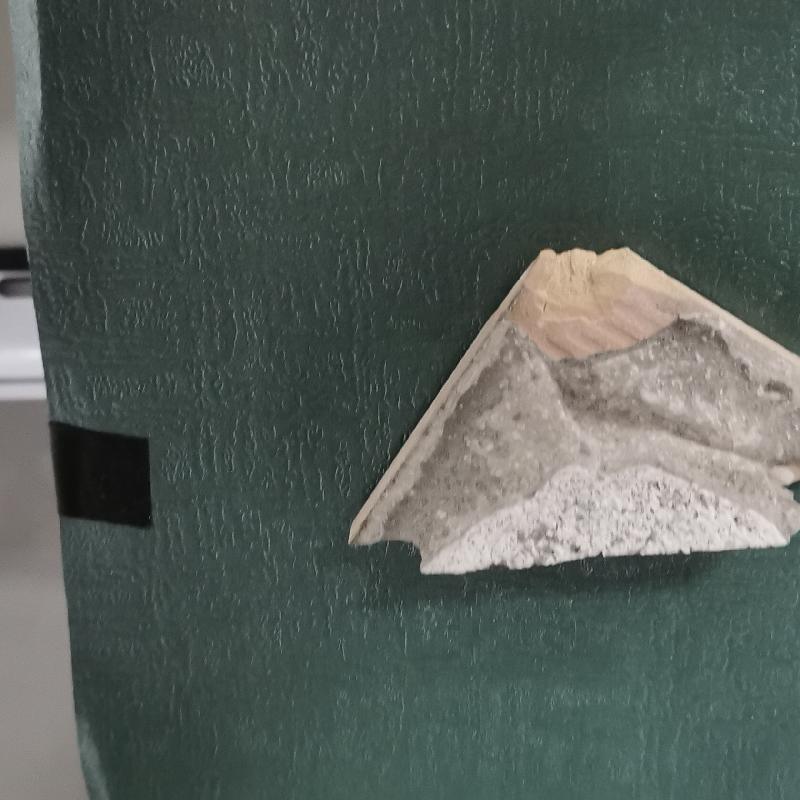tile: (336, 234, 799, 583)
